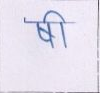i_matra: (49, 10, 69, 48)
